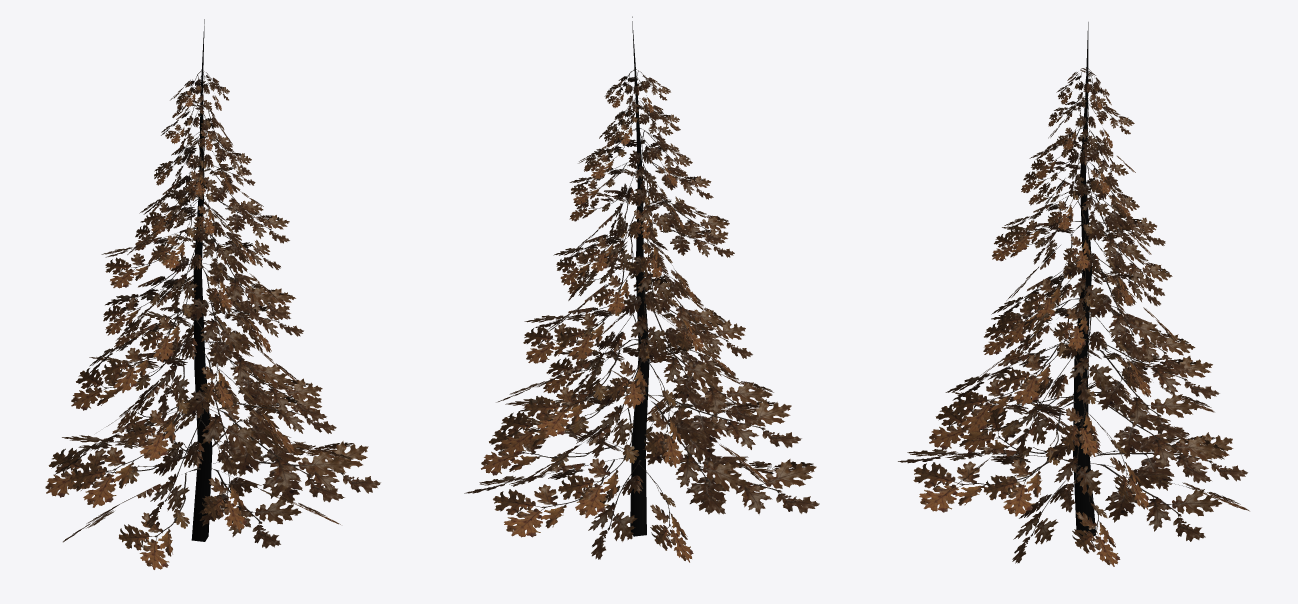
File: spruce1 lod0.FBX
3 views of the same model, side by side, from view 1: azimuth 30°, elevation 25°; view 2: azimuth 150°, elevation 25°; view 3: azimuth 270°, elevation 25° (orthographic).
Visible parts, largest first — view 1: spruce1; view 2: spruce1; view 3: spruce1.
Boxes of the visible parts, x1=… form: spruce1: x1=45, y1=19, x2=380, y2=569; spruce1: x1=464, y1=16, x2=819, y2=562; spruce1: x1=898, y1=22, x2=1249, y2=566.
Bounding box in the file's own units: 42229 × 58680 × 42009.
